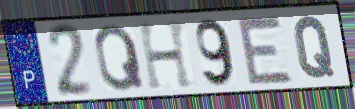2: (46, 19, 96, 103)
9: (193, 17, 238, 89)
E: (234, 15, 296, 86)
H: (135, 18, 196, 92)
Q: (92, 22, 148, 94), (292, 14, 337, 81)
